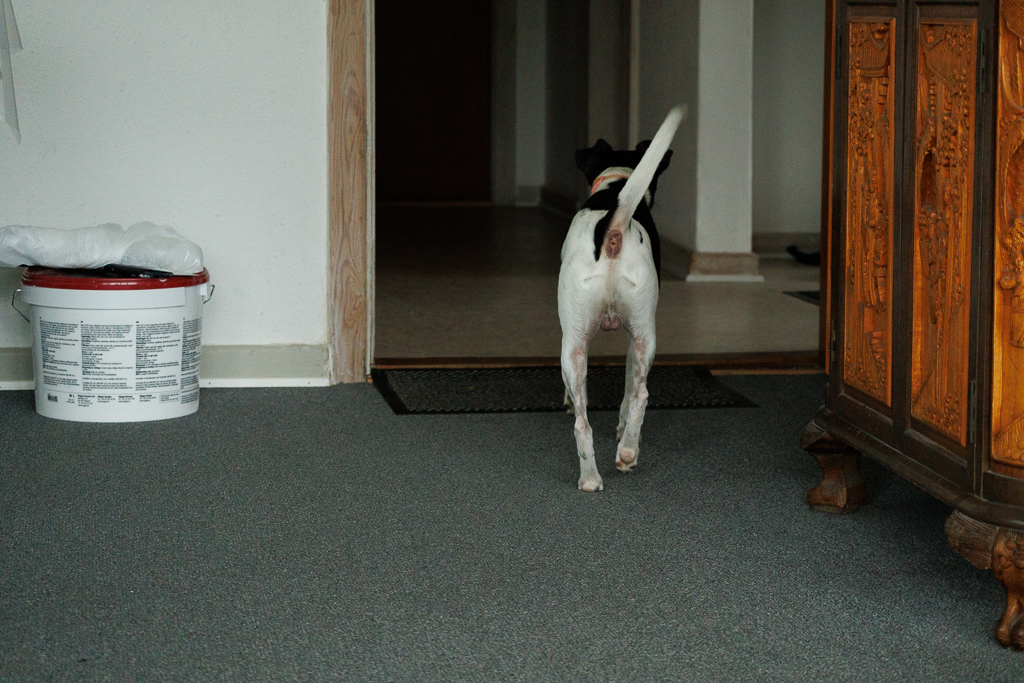Dog: (541, 96, 703, 502)
